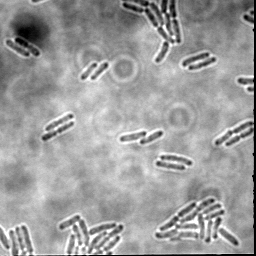Dividing: (213, 119, 253, 147), (40, 120, 75, 142), (43, 112, 75, 132), (224, 127, 254, 147), (188, 55, 217, 72), (158, 153, 193, 167)
Microcolony: (154, 196, 240, 247), (119, 0, 183, 64), (58, 212, 124, 255), (1, 223, 34, 255)
Rod: (180, 51, 210, 68), (4, 39, 30, 58), (139, 129, 165, 146), (89, 60, 109, 81), (155, 159, 185, 172), (79, 61, 98, 81), (118, 130, 147, 143)
